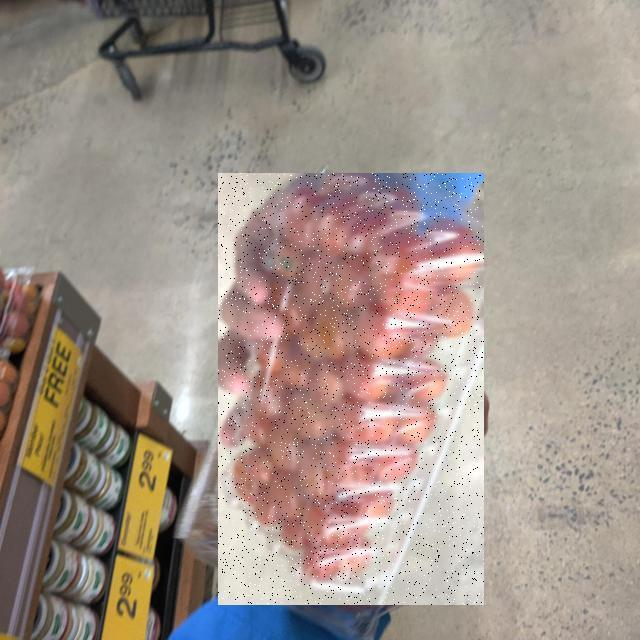Tomatoes: (218, 173, 484, 605)
